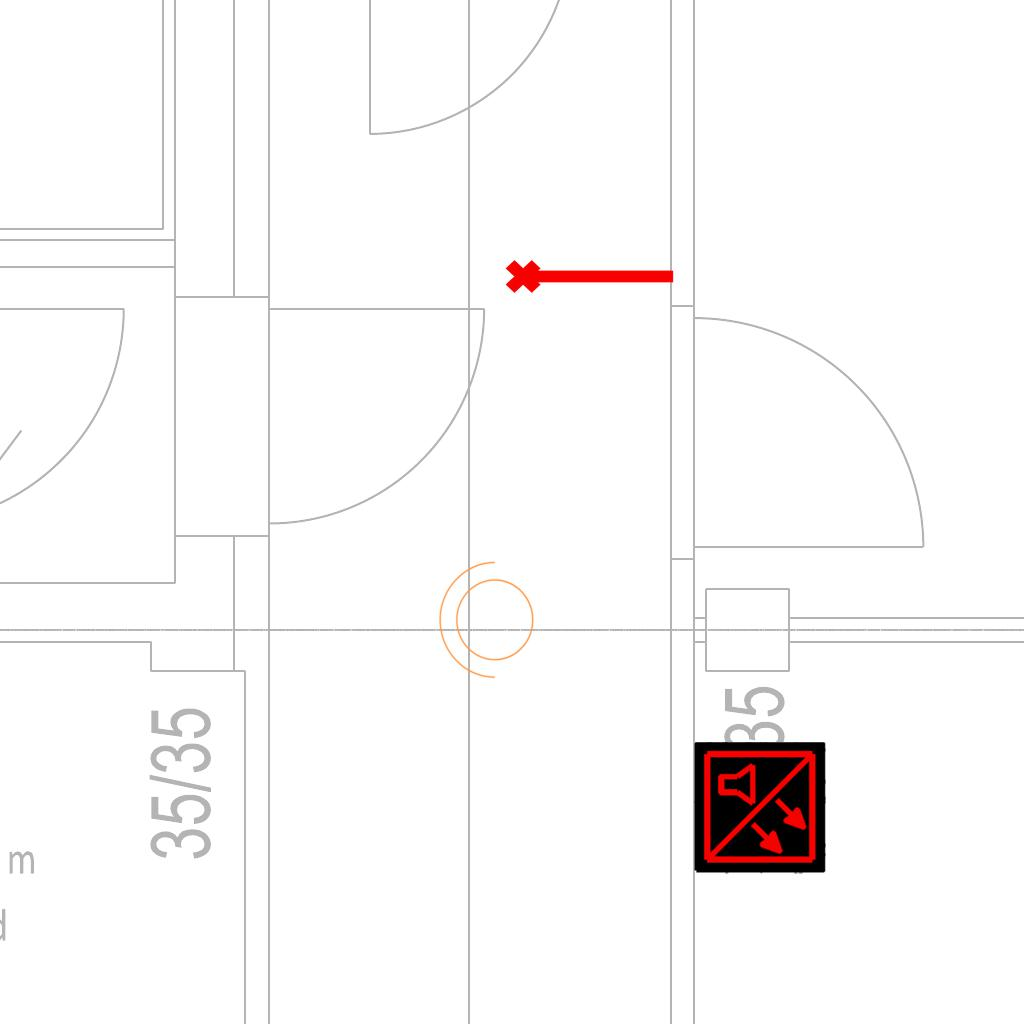ASR_Ansaugoeffnung: (503, 251, 679, 297)
OKW_Multisensormelder_(Kombination_optischer_Rauch-Kahlenmonoxid_Waerme-Melder): (694, 742, 826, 874)
Scheinwerfer_fuer_Alarmbeleuchtung: (434, 557, 546, 689)
